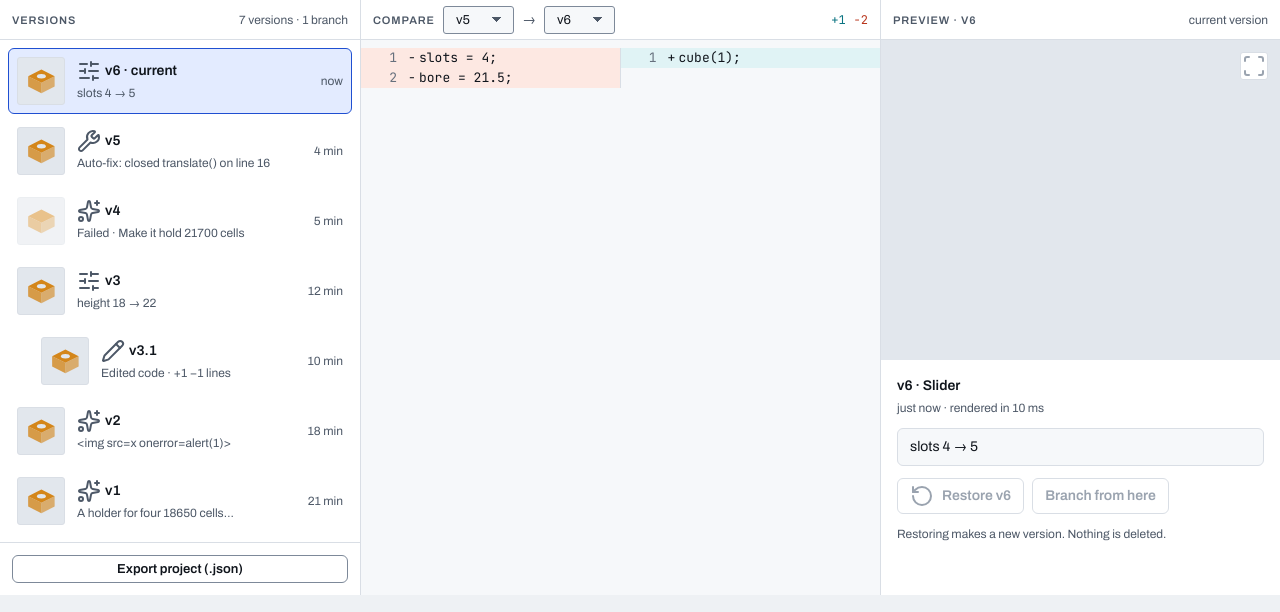
Test case: compares the selected version with its parent by default, and any two versions on request
Click the button "v3 height 18 → 22 12 min": click(41, 291) [8,258,352,324]
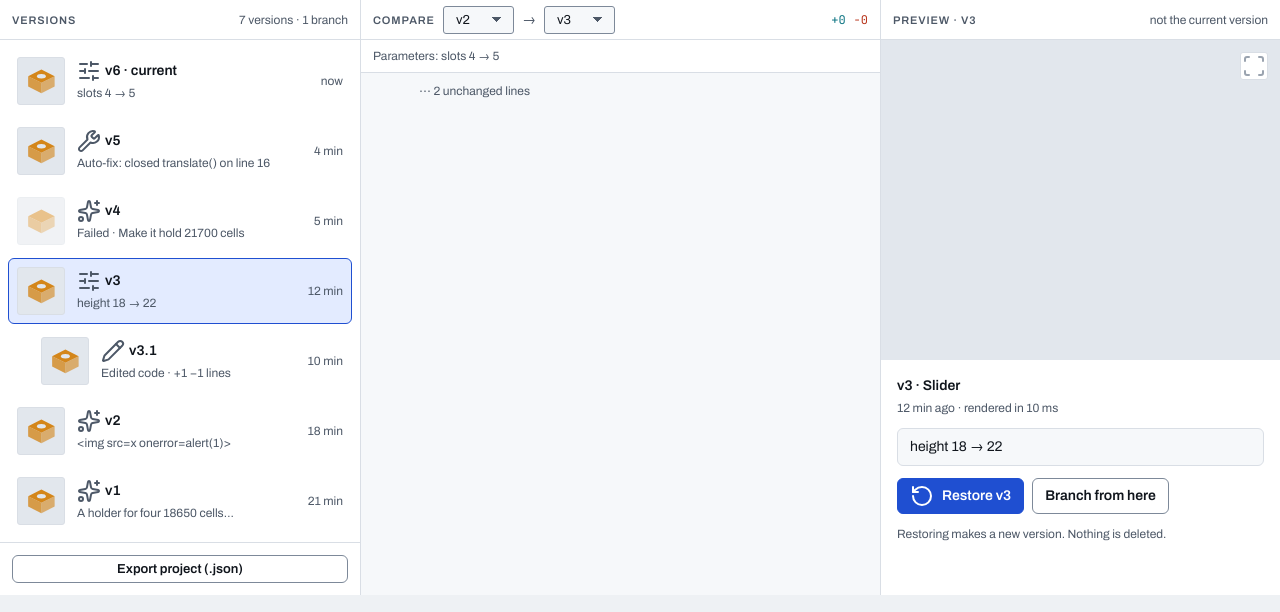
Check: the dropdown named "To version" shows "v3", box [544,6,615,34]
Check: the dropdown named "From version" shows "v2"
Check: the text with test id "param-diff" reads "Parameters: slots 4 → 5", box [361,40,880,73]
Select "v1" in the dropdown named "From version": (478, 20) [443,6,514,34]
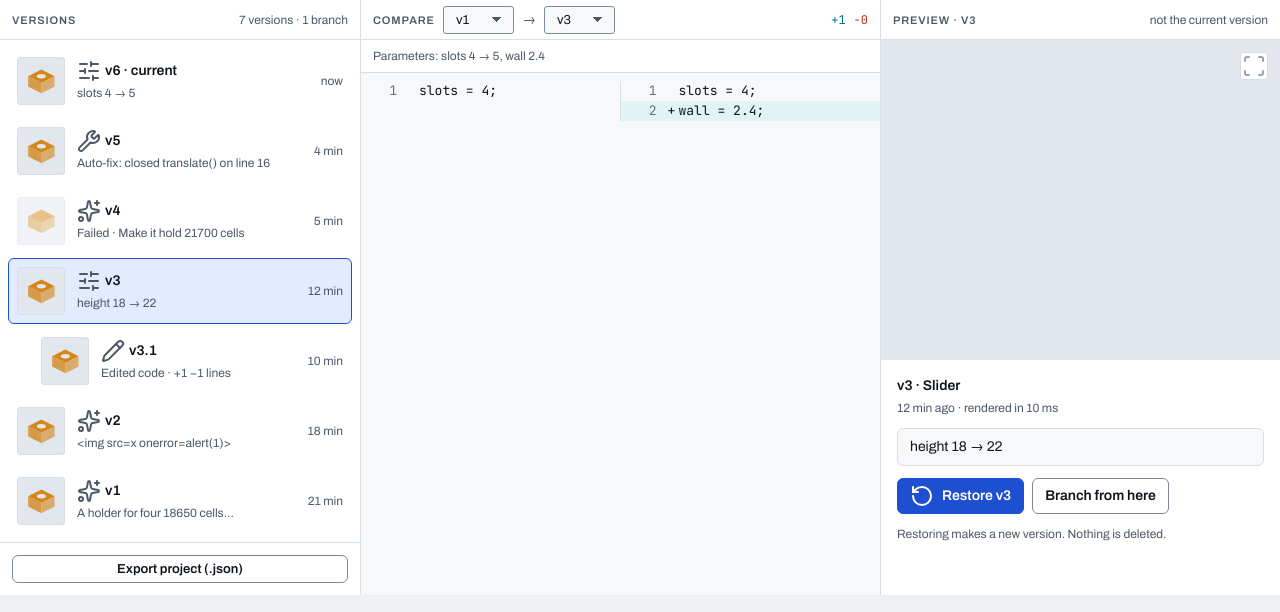
Check: the text with test id "diff-removed" reads "−0", box [854,12,868,28]
Check: the text with test id "diff-added" reads "+1", box [831,12,846,28]
Check: the element showing "2 + wall = 2.4;" is shown, box [620,101,880,121]
